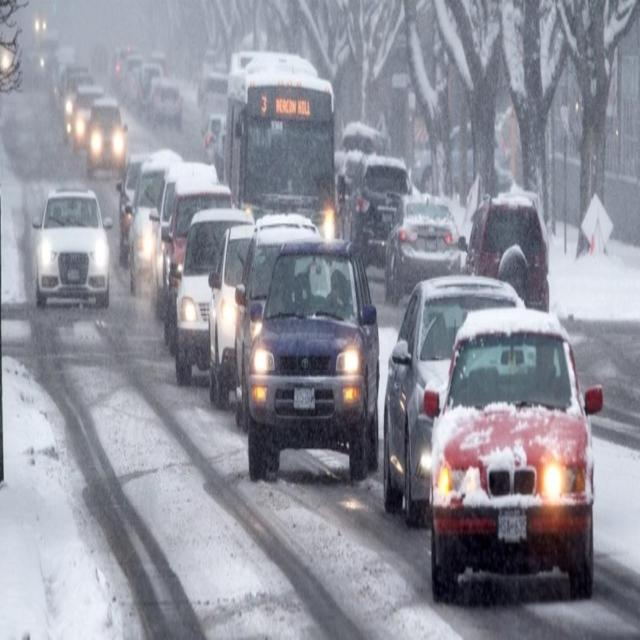Bus: (224, 45, 336, 233)
Car: (424, 310, 606, 593), (240, 227, 380, 485), (463, 190, 551, 312), (31, 185, 110, 311), (384, 196, 464, 307), (346, 152, 413, 272), (125, 150, 178, 287), (86, 95, 127, 180)
